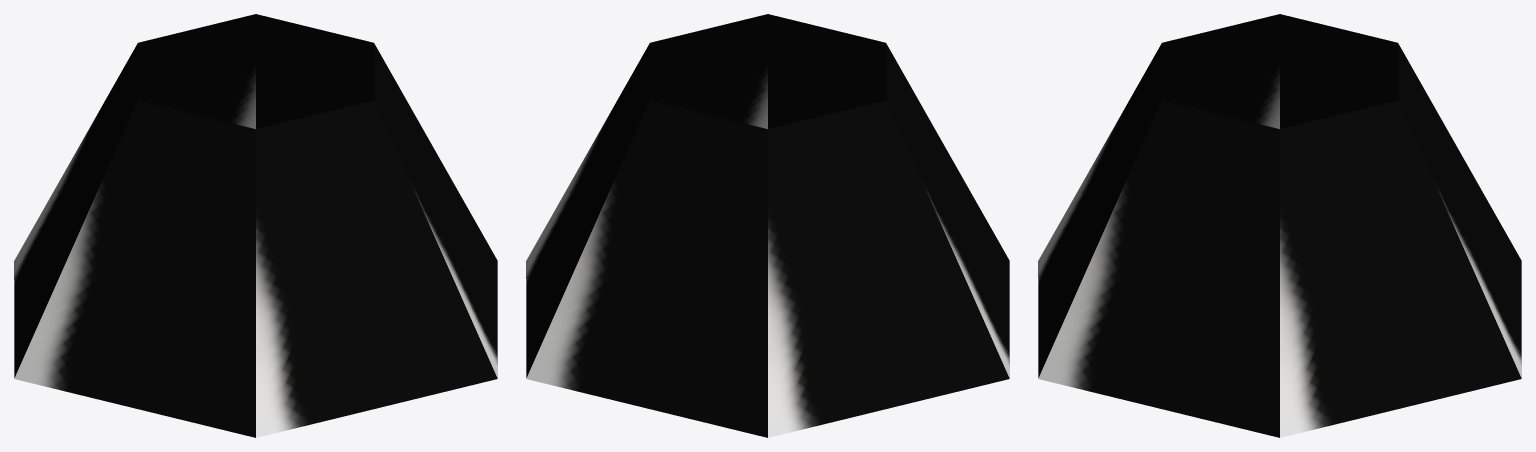
Rendered from TX_DLD_wuti19_fuwen.FBX.
The picture shows the model from 3 angles, left to right: view 1: azimuth 30°, elevation 25°; view 2: azimuth 150°, elevation 25°; view 3: azimuth 270°, elevation 25°; orthographic projection.
Visible parts, largest first — view 1: TX_DLD_wuti19_fuwen; view 2: TX_DLD_wuti19_fuwen; view 3: TX_DLD_wuti19_fuwen.
Part boxes in pixels (x1=…): TX_DLD_wuti19_fuwen: x1=14, y1=14, x2=497, y2=437; TX_DLD_wuti19_fuwen: x1=526, y1=14, x2=1009, y2=437; TX_DLD_wuti19_fuwen: x1=1038, y1=14, x2=1521, y2=437.
Size of the model in its own units: 157 by 77.09 by 136.
